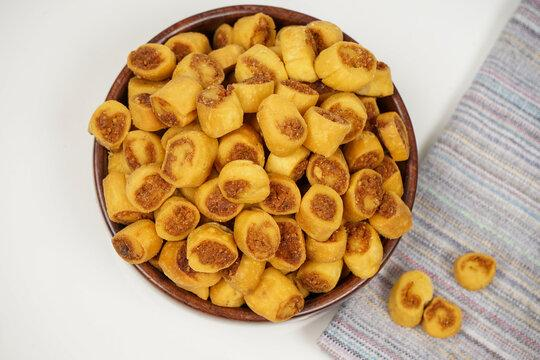bhakarwadi: (87, 15, 408, 323)
